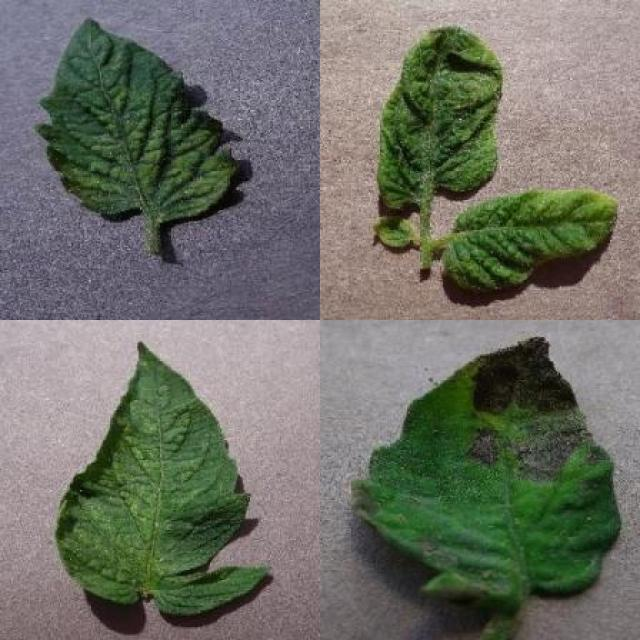Early Blight: (352, 336, 624, 610)
Mosaic Virus: (35, 15, 242, 222)
Spider Mites: (54, 337, 272, 617)
Yellow Leaf Curl Virus: (376, 23, 504, 210), (442, 187, 618, 293), (368, 216, 416, 248)
